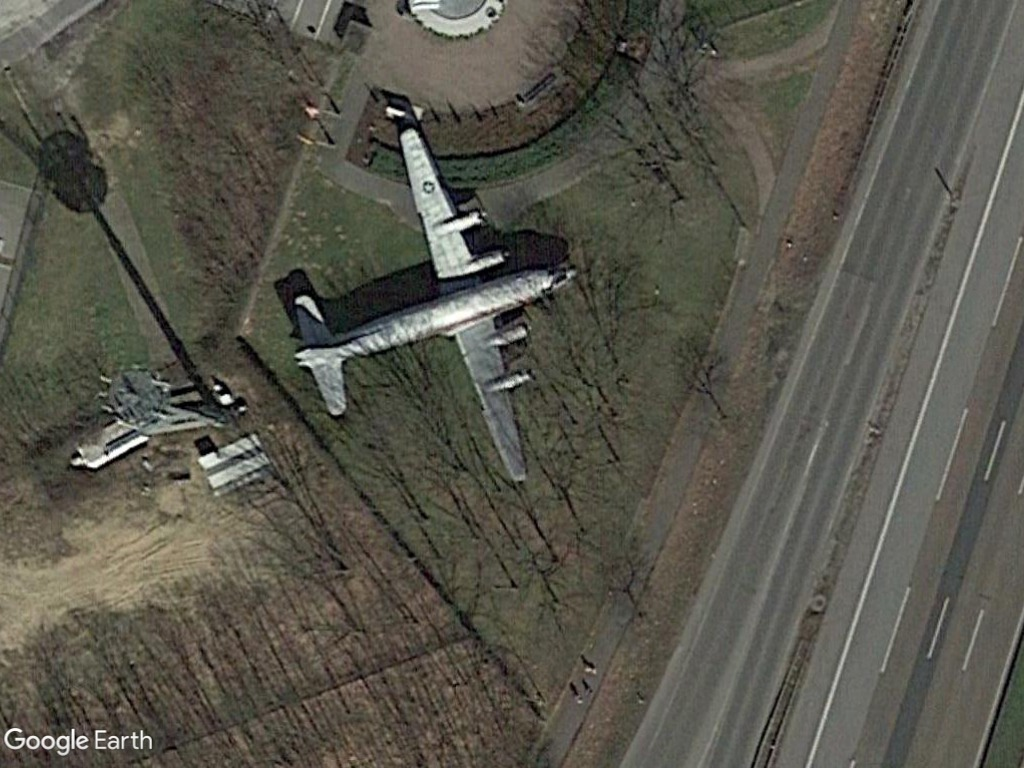propeller: (281, 121, 589, 491)
